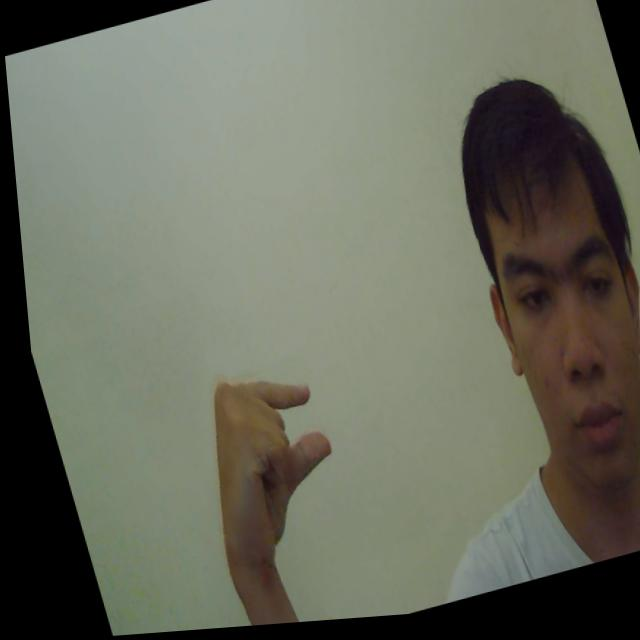G: (169, 360, 351, 581)
